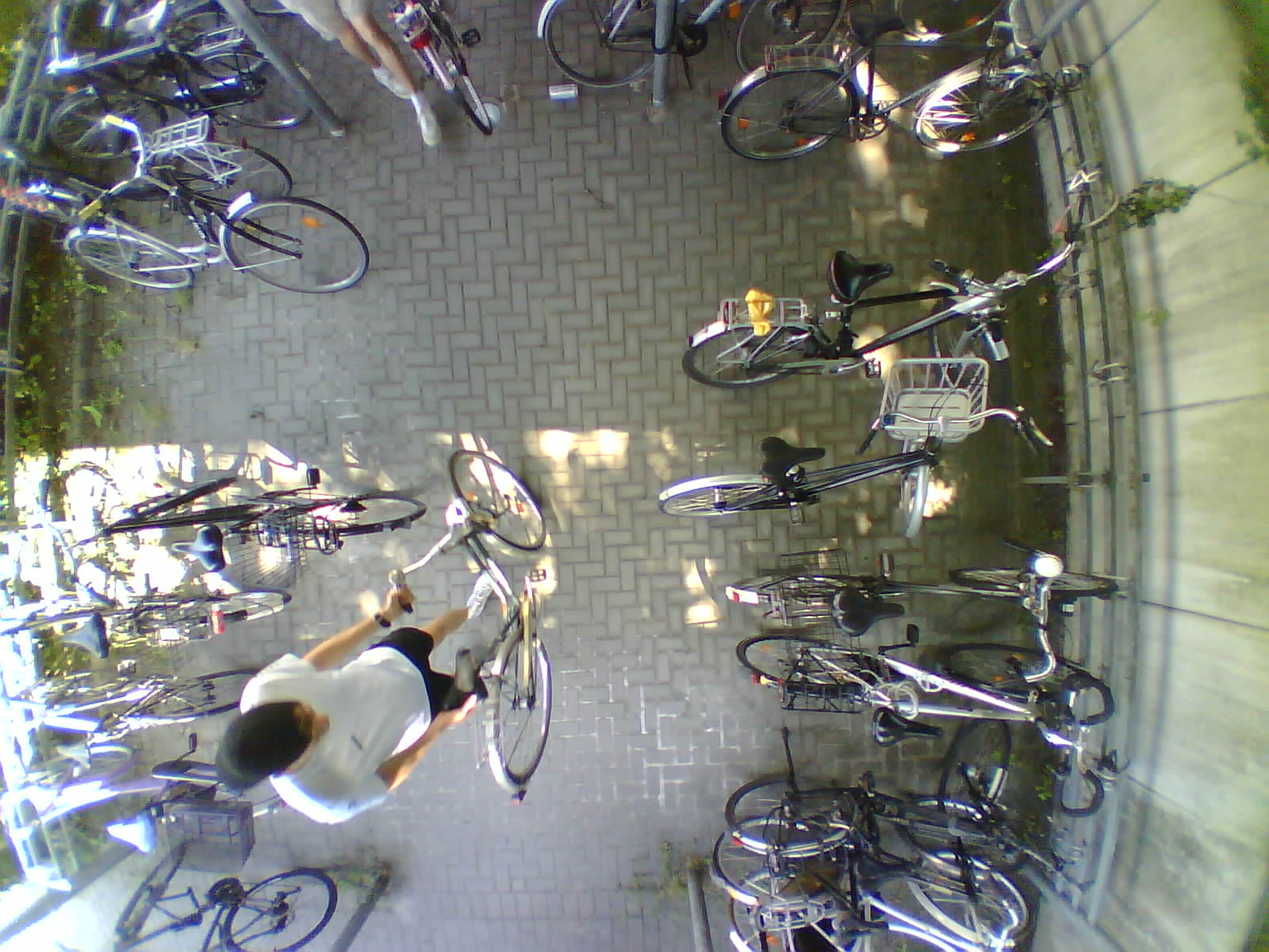bicylce: (658, 390, 984, 536), (732, 630, 1112, 754), (715, 18, 1048, 159), (686, 263, 1016, 402), (434, 448, 551, 805), (59, 473, 425, 574), (68, 175, 373, 295), (726, 745, 1033, 857), (40, 10, 290, 139), (724, 551, 1123, 631), (709, 824, 1055, 907), (11, 759, 299, 850), (727, 870, 1034, 951), (32, 121, 298, 213), (100, 855, 332, 952), (11, 668, 276, 752), (8, 586, 293, 660), (238, 464, 245, 475)
saddle: (834, 585, 905, 631), (169, 523, 228, 575), (756, 435, 829, 475), (871, 708, 946, 746), (829, 253, 889, 300), (75, 109, 138, 152), (854, 851, 915, 895), (55, 616, 112, 661), (833, 907, 894, 946), (103, 811, 158, 852), (845, 8, 905, 43), (454, 648, 491, 704), (122, 1, 172, 36), (53, 744, 97, 769)
